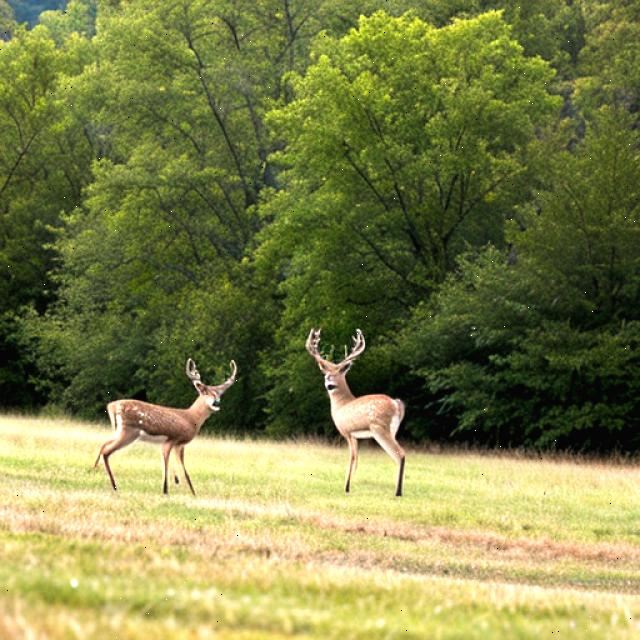deer: (296, 298, 382, 421), (168, 334, 254, 435)
